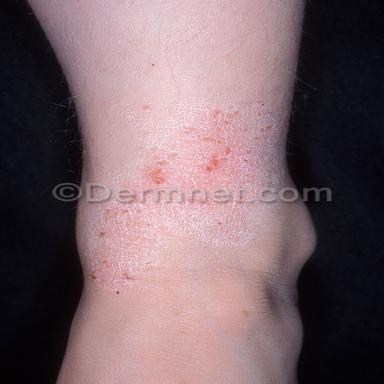eczema: (83, 203, 263, 295), (111, 98, 284, 189)
